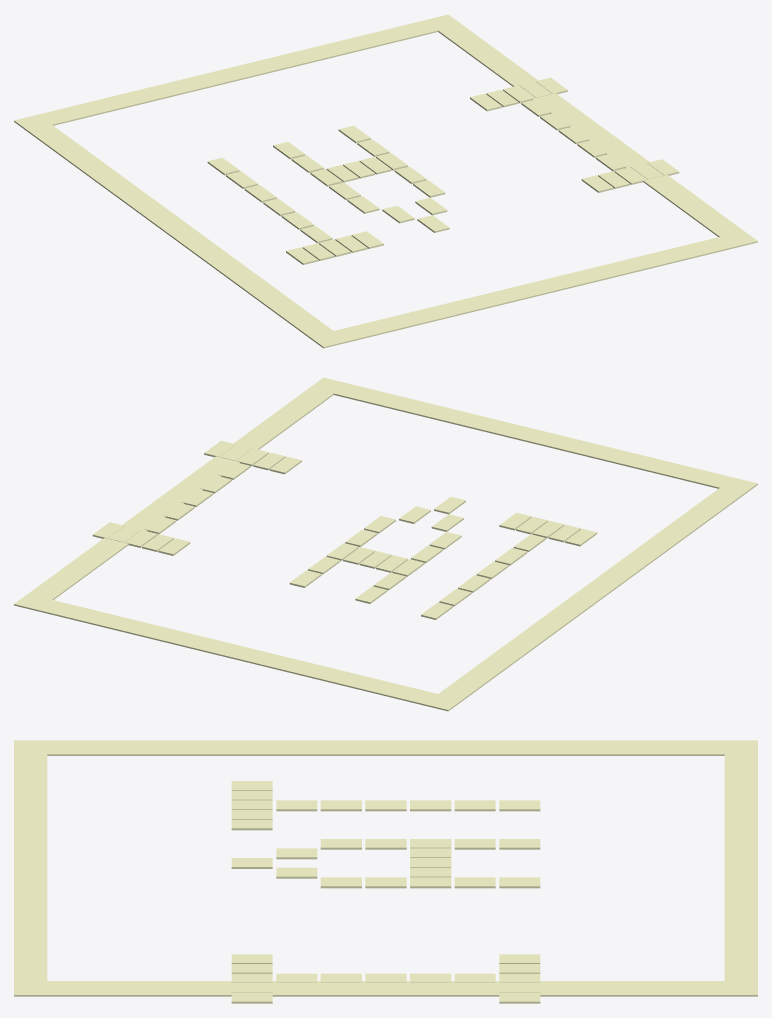
File: marking_taxi_box_white.glb
3 renders of one model, top to bottom at view 1: azimuth 30°, elevation 25°; view 2: azimuth 150°, elevation 25°; view 3: azimuth 270°, elevation 25°, orthographic. The views are drawn at different scales.
Parts seen in each view (by area): view 1: taxi_box_left, taxi_box_bottom, taxi_box_top, taxi_box_right; view 2: taxi_box_left, taxi_box_top, taxi_box_bottom, taxi_box_right; view 3: taxi_box_left, taxi_box_right, taxi_box_top, taxi_box_bottom, taxi_box_07, taxi_box_17, taxi_box_05, taxi_box_06, taxi_box_08, taxi_box_09, taxi_box_10, taxi_box_12 (+15 smaller).
Part boxes in pixels (bbox=[...]): taxi_box_left: bbox=[28, 125, 333, 337]; taxi_box_bottom: bbox=[309, 231, 757, 348]; taxi_box_top: bbox=[14, 14, 461, 131]; taxi_box_right: bbox=[438, 24, 743, 236]; taxi_box_left: bbox=[438, 488, 743, 700]; taxi_box_top: bbox=[14, 594, 462, 711]; taxi_box_bottom: bbox=[310, 377, 757, 494]; taxi_box_right: bbox=[28, 387, 333, 599]; taxi_box_left: bbox=[47, 740, 724, 755]; taxi_box_right: bbox=[47, 981, 724, 996]; taxi_box_top: bbox=[724, 740, 757, 996]; taxi_box_bottom: bbox=[14, 740, 47, 996]; taxi_box_07: bbox=[365, 800, 406, 811]; taxi_box_17: bbox=[365, 877, 406, 888]; taxi_box_05: bbox=[276, 800, 317, 811]; taxi_box_06: bbox=[320, 800, 361, 811]; taxi_box_08: bbox=[410, 800, 451, 811]; taxi_box_09: bbox=[454, 800, 495, 811]; taxi_box_10: bbox=[499, 800, 540, 811]; taxi_box_12: bbox=[276, 848, 317, 859].
Bounding box in the file's own units: 1.66 × 0.006 × 2.
